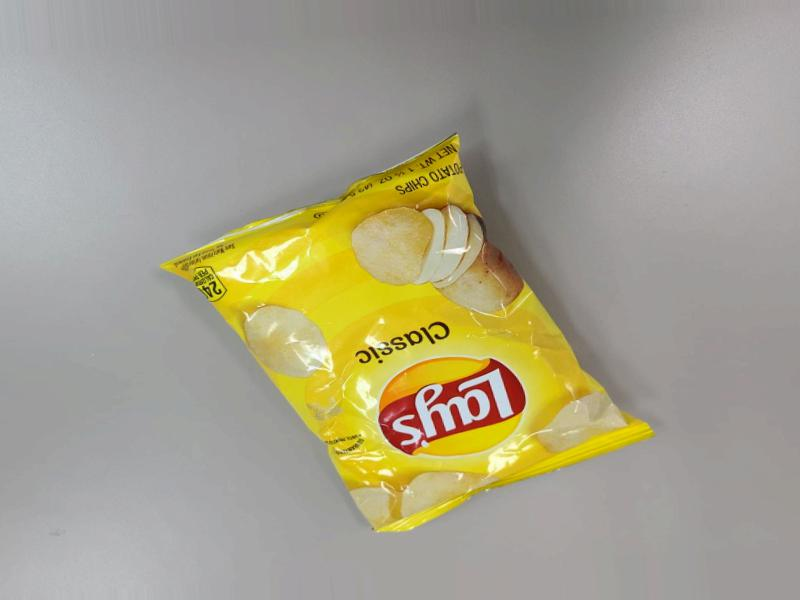lays: (214, 185, 678, 600)
